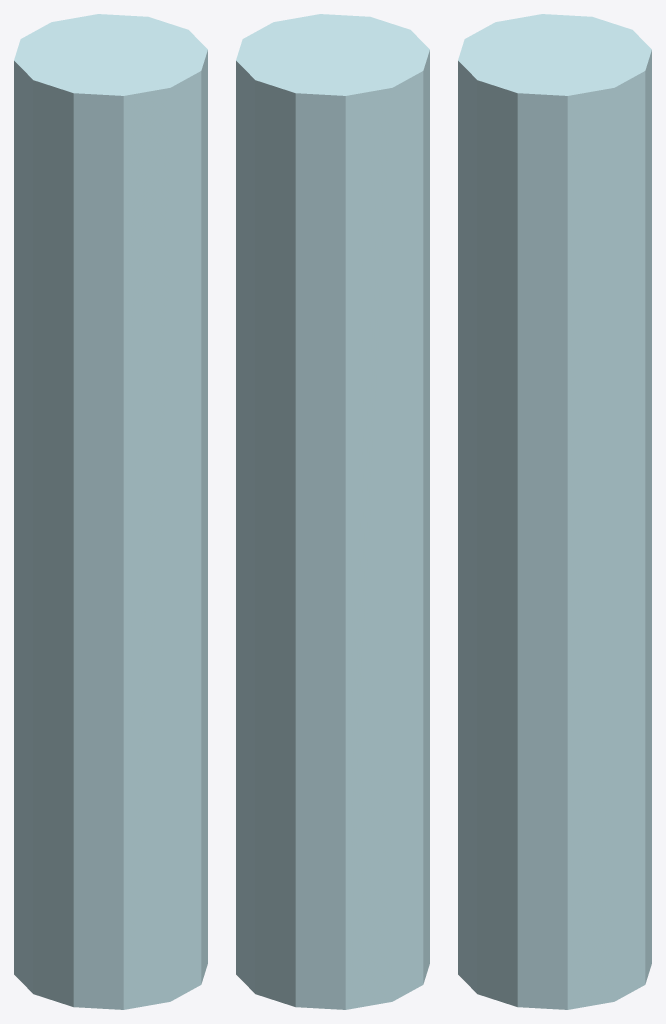
File: industrial_06397_LauxLink2Visible_visual_visual_visual_visual_visual_visual_vis_2.dae
The picture shows the model from 3 angles, left to right: view 1: azimuth 30°, elevation 25°; view 2: azimuth 150°, elevation 25°; view 3: azimuth 270°, elevation 25°; orthographic projection.
Visible parts, largest first — view 1: node; view 2: node; view 3: node.
Boxes of the visible parts, <box> form: node: <box>14,14,207,1009</box>; node: <box>236,14,429,1009</box>; node: <box>458,14,651,1009</box>.
Size of the model in its own units: 0.00463 by 0.0241 by 0.00463.
